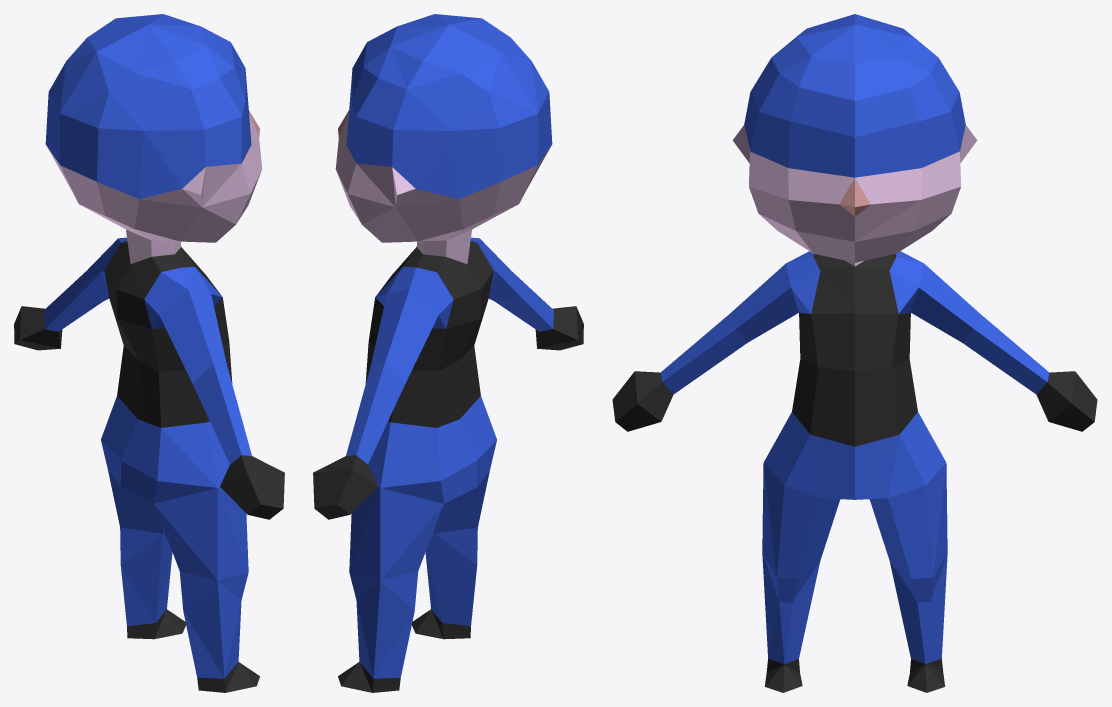
The model's file is Police.fbx.
3 renders of one model, left to right at view 1: azimuth 30°, elevation 25°; view 2: azimuth 150°, elevation 25°; view 3: azimuth 270°, elevation 25°, orthographic.
Visible parts, largest first — view 1: Human_Base.001; view 2: Human_Base.001; view 3: Human_Base.001.
Boxes of the visible parts, x1,y1,x2,y2 form: Human_Base.001: (14,14,284,692); Human_Base.001: (313,14,583,692); Human_Base.001: (612,14,1097,692).
Size of the model in its own units: 63.77 by 196 by 136.
